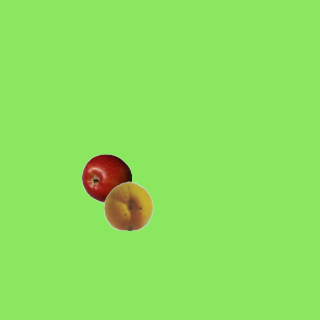Apple Braeburn: (81, 153, 131, 203)
Peach 2: (103, 180, 153, 230)
